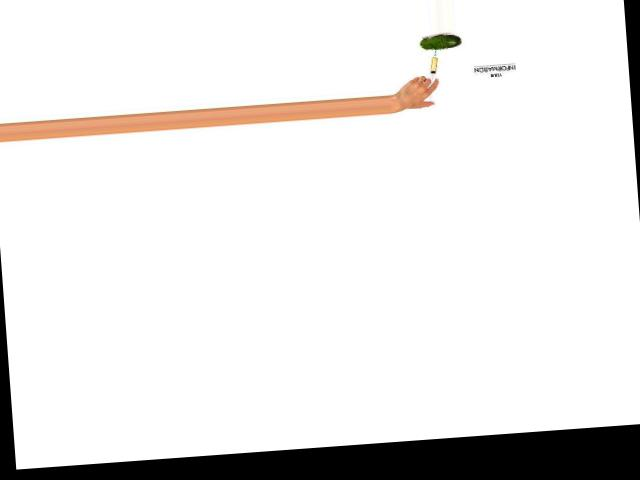cucumber: (418, 34, 461, 50)
